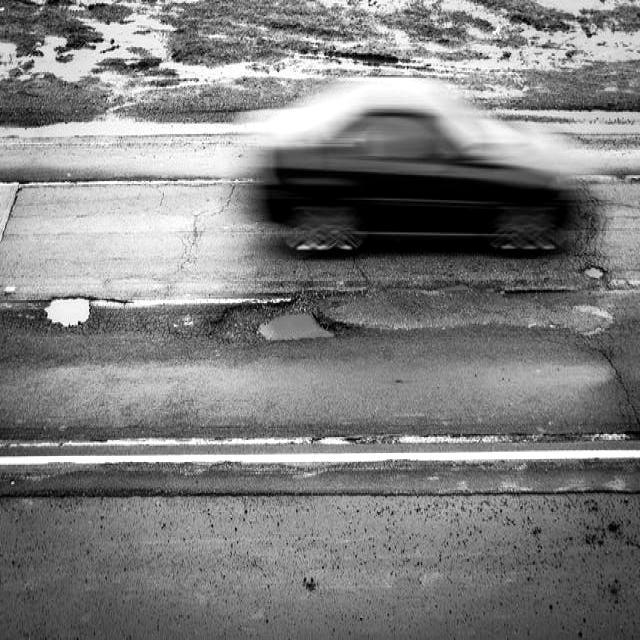pathole: (25, 266, 640, 417)
